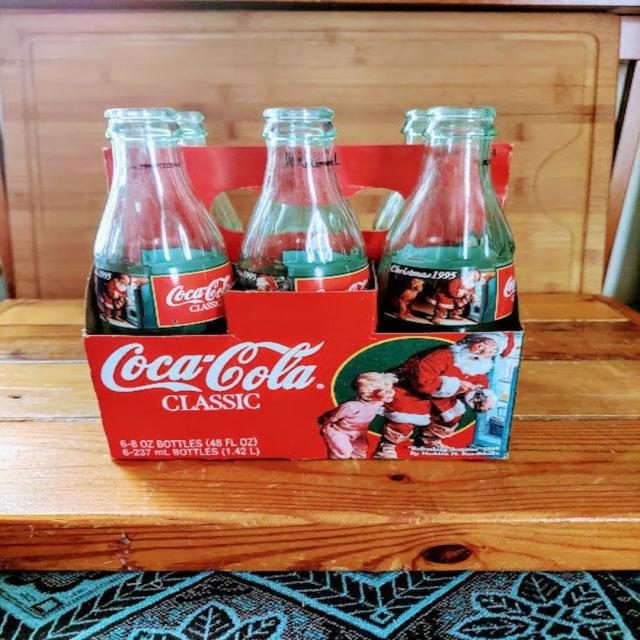coca cola: (98, 341, 324, 392)
